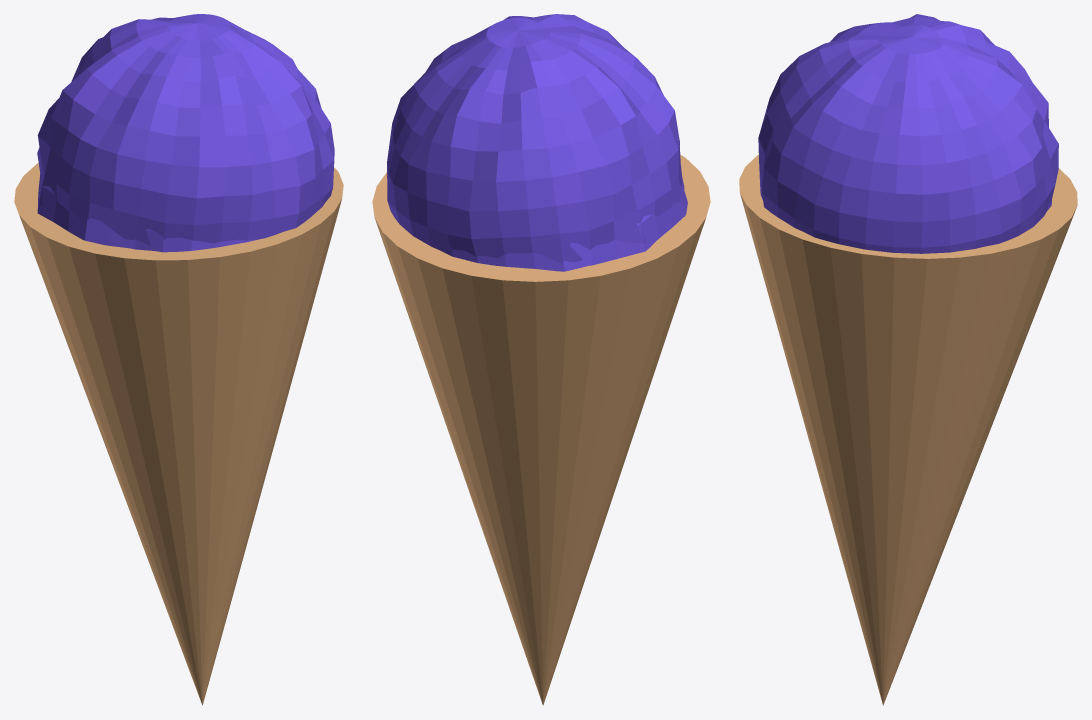
Rendered from icescream.gltf.
3 views of the same model, side by side, from view 1: azimuth 30°, elevation 25°; view 2: azimuth 150°, elevation 25°; view 3: azimuth 270°, elevation 25° (orthographic). The views are drawn at different scales.
Parts seen in each view (by area): view 1: Cone, Sphere.001; view 2: Cone, Sphere.001; view 3: Cone, Sphere.001.
Part boxes in pixels (x1=…): Cone: x1=14, y1=163, x2=343, y2=705; Sphere.001: x1=37, y1=14, x2=334, y2=252; Cone: x1=372, y1=154, x2=710, y2=705; Sphere.001: x1=387, y1=14, x2=687, y2=271; Cone: x1=739, y1=154, x2=1077, y2=705; Sphere.001: x1=758, y1=14, x2=1058, y2=253.
Bounding box in the file's own units: 2.3 × 5.2 × 2.37.
